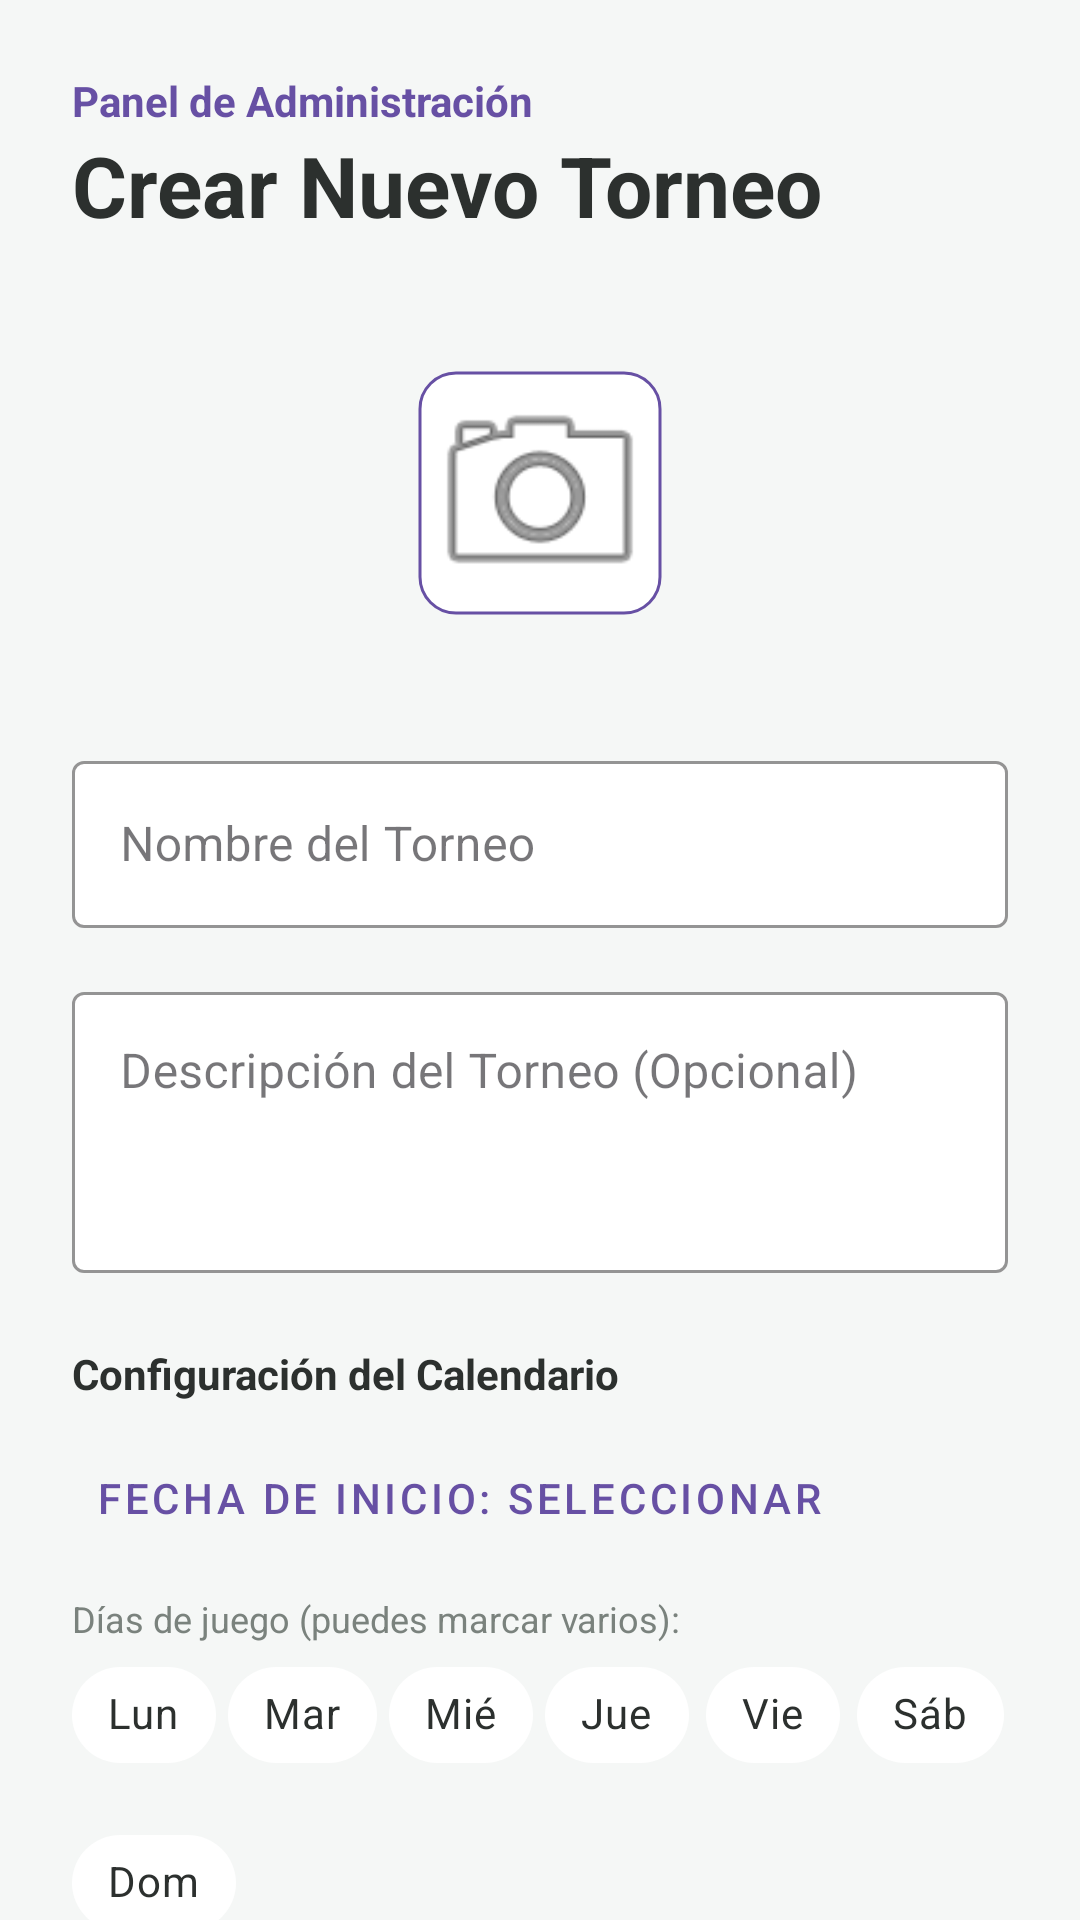

Icon click points for this 1080x1920 phone screenshot, format (x=x, y=y):
camera: (x=540, y=493)
